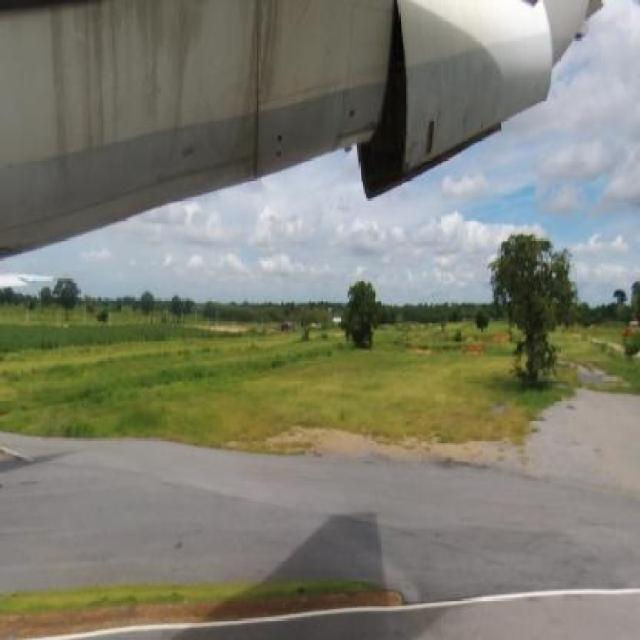Rust: (38, 5, 220, 166), (226, 0, 288, 155), (294, 2, 352, 142), (408, 49, 450, 162)
